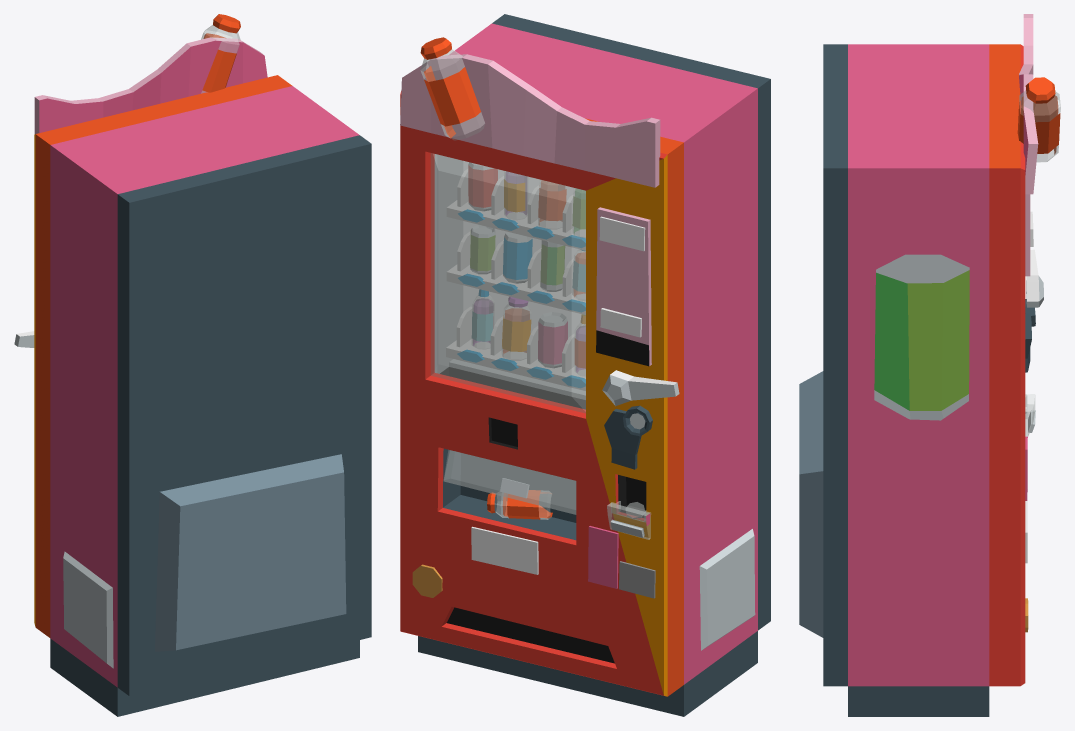
File: vending_machine.glb
3 views of the same model, side by side, from view 1: azimuth 30°, elevation 25°; view 2: azimuth 150°, elevation 25°; view 3: azimuth 270°, elevation 25° (orthographic). The views are drawn at different scales.
Visible parts, largest first — view 1: group1848869498_e08543, group1848869498_a2646f, group1848869498_12b441, group1848869498_98ab7a, group1848869498_08cfa6, group1848869498_5e90a2, group1848869498_425c5e, group1848869498_84a38a; view 2: group1848869498, group1848869498_a2646f, group1848869498_84a38a, group1848869498_e08543, group1848869498_5e90a2, group1848869498_425c5e, group1848869498_98ab7a, group1848869498_08cfa6, group1848869498_41cd89, group1848869498_1bbf73, group1848869498_3ab69a, group1848869498_d17607 (+4 smaller); view 3: group1848869498_a2646f, group1848869498_e08543, group1848869498, group1848869498_d17607, group1848869498_12b441, group1848869498_98ab7a, group1848869498_d3e4d4, group1848869498_08cfa6, group1848869498_5e90a2, group1848869498_84a38a, group1848869498_41cd89.
Boxes of the visible parts, x1,y1,x2,y2 form: group1848869498_e08543: (50,135,371,716); group1848869498_a2646f: (39,40,359,687); group1848869498_12b441: (155,454,346,651); group1848869498_98ab7a: (35,14,292,637); group1848869498_08cfa6: (14,334,113,668); group1848869498_5e90a2: (34,37,263,133); group1848869498_425c5e: (34,134,35,626); group1848869498_84a38a: (201,25,240,93); group1848869498: (400,91,667,696); group1848869498_a2646f: (449,23,757,684); group1848869498_84a38a: (420,49,650,539); group1848869498_e08543: (418,14,770,716); group1848869498_5e90a2: (400,54,660,365); group1848869498_425c5e: (502,155,667,696); group1848869498_98ab7a: (420,37,683,696); group1848869498_08cfa6: (434,154,755,650); group1848869498_41cd89: (446,169,676,574); group1848869498_1bbf73: (440,330,649,663); group1848869498_3ab69a: (457,209,585,387); group1848869498_d17607: (470,196,585,284); group1848869498_a2646f: (848,44,1028,686); group1848869498_e08543: (823,44,1035,716); group1848869498: (989,44,1025,686); group1848869498_d17607: (907,270,969,410); group1848869498_12b441: (799,371,823,637); group1848869498_98ab7a: (989,44,1060,168); group1848869498_d3e4d4: (874,272,909,410); group1848869498_08cfa6: (874,254,1043,432); group1848869498_5e90a2: (1019,14,1038,276); group1848869498_84a38a: (1019,90,1060,436); group1848869498_41cd89: (1025,211,1039,563).
Bounding box in the file's own units: 0.7353 × 1.6 × 0.6169.
